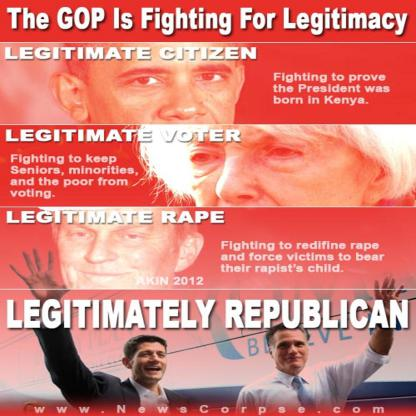face: (194, 119, 366, 244), (89, 28, 237, 162), (59, 201, 179, 300), (271, 330, 310, 372), (134, 342, 167, 382)
